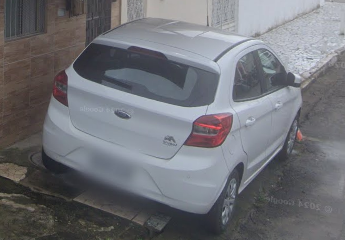car: (39, 14, 306, 230)
